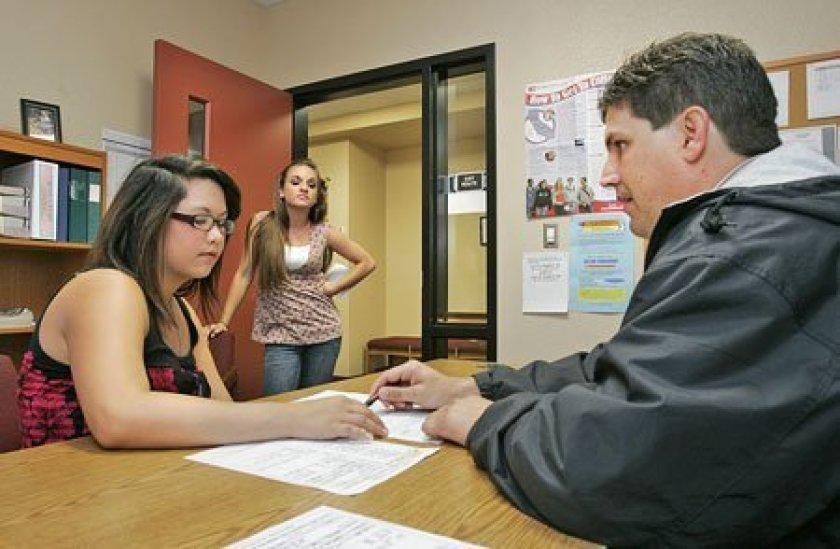Person: (503, 41, 840, 516), (40, 153, 244, 449), (244, 132, 374, 382)
